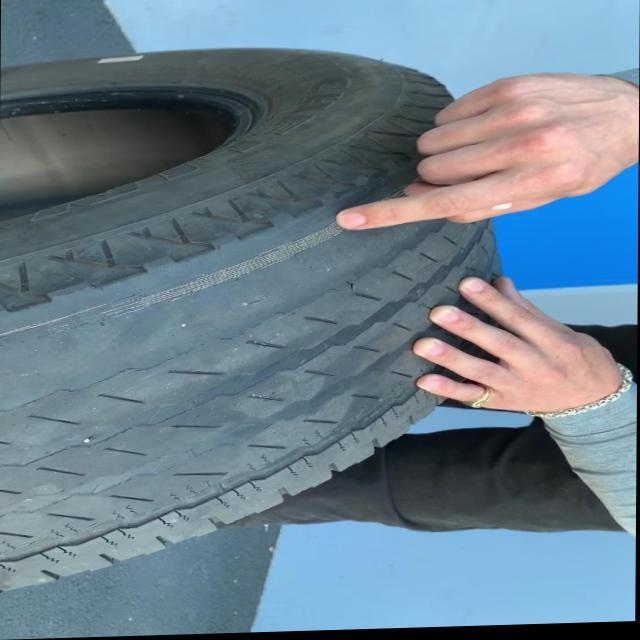Flat spots: (0, 226, 393, 388)
